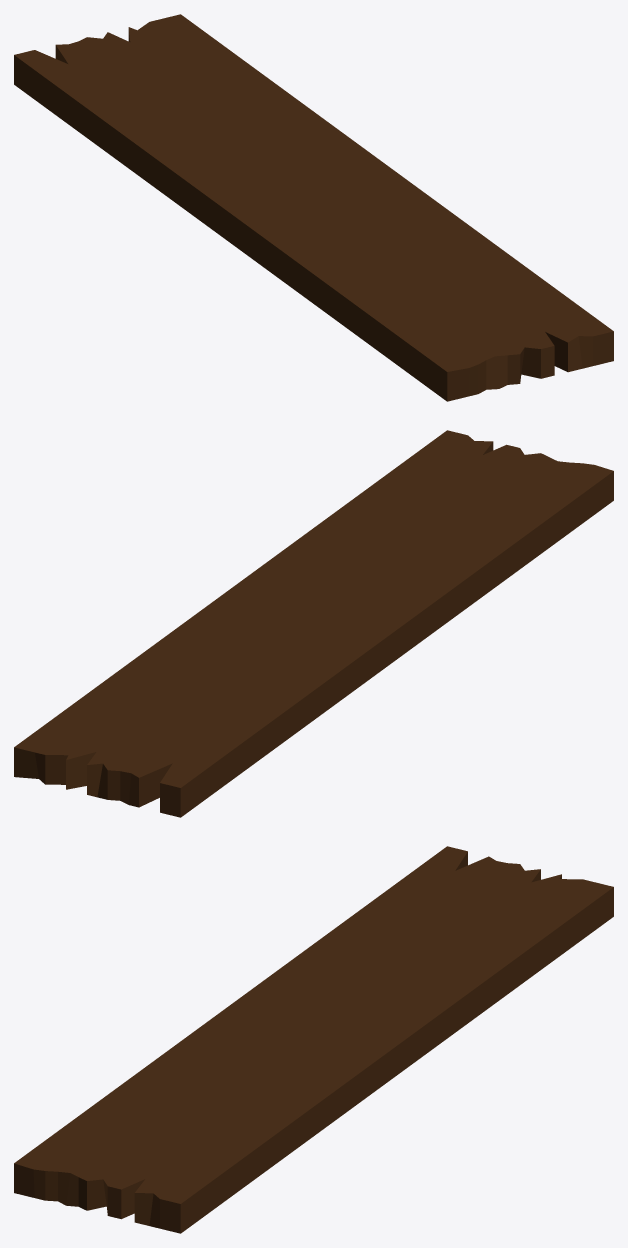
Rendered from Wood Plank 1.fbx.
3 views of the same model, one above another, from view 1: azimuth 30°, elevation 25°; view 2: azimuth 150°, elevation 25°; view 3: azimuth 330°, elevation 25° (orthographic).
Parts seen in each view (by area): view 1: Cube; view 2: Cube; view 3: Cube.
Part boxes in pixels (<box>): Cube: <box>14,14,613,401</box>; Cube: <box>14,430,613,817</box>; Cube: <box>14,846,613,1233</box>.
Bounding box in the file's own units: 200 × 34.03 × 903.
